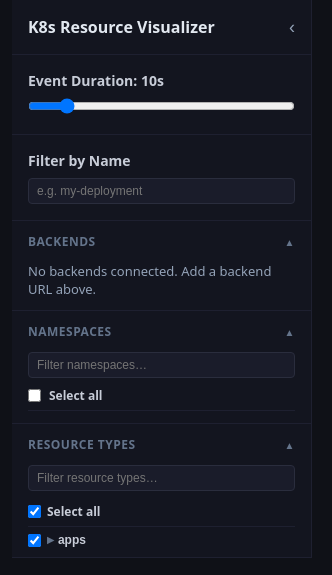
Test: Sidebar › collapses and expands resource types section
This screenshot has width=332, height=575.
expect the button "▶ apps" is shown: met, box [47,533,86,547]
Step 1. Click the button "Resource Types ▲" → (82, 444), box [12,424,311,465]
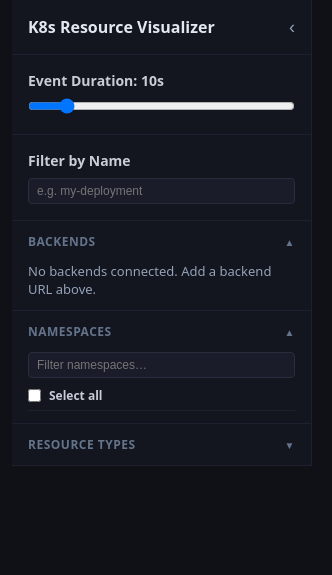
expect the button "apps" is gone: met
Step 2. Click the button "Resource Types ▼" → (82, 444), box [12,424,311,465]
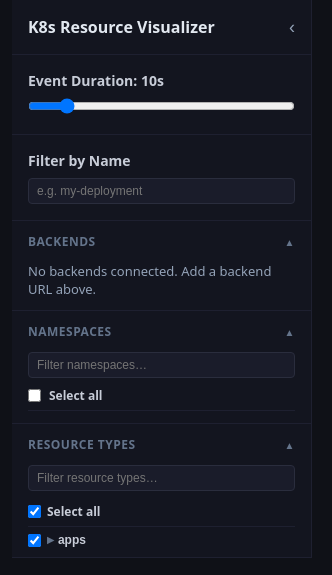
expect the button "▶ apps" is shown: met, box [47,533,86,547]
